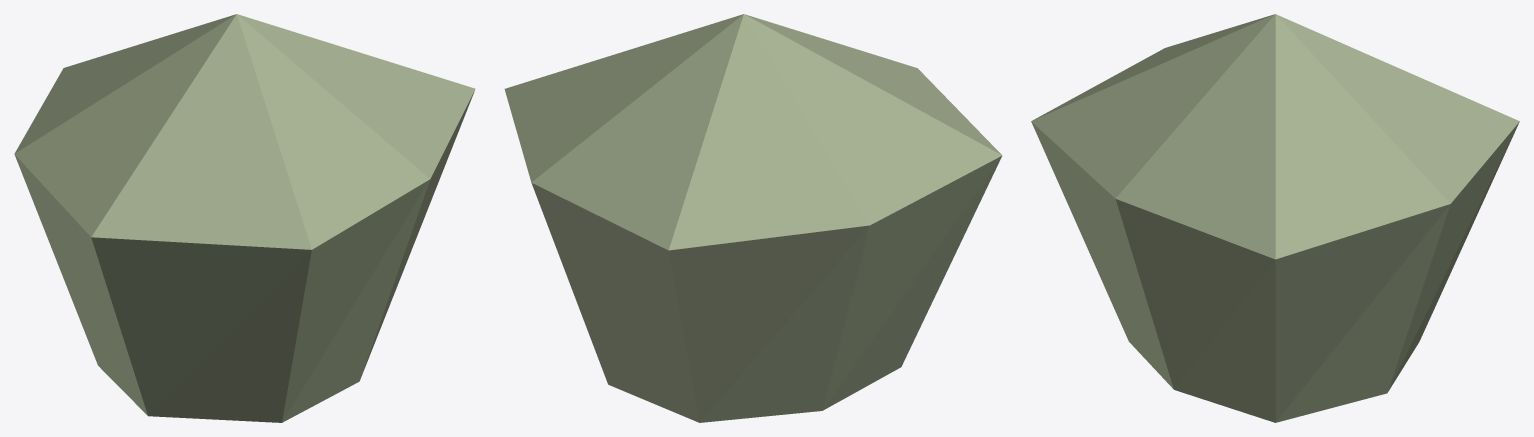
The model's file is olivo_0_L2.glb.
3 renders of one model, left to right at view 1: azimuth 30°, elevation 25°; view 2: azimuth 150°, elevation 25°; view 3: azimuth 270°, elevation 25°, orthographic.
Parts seen in each view (by area): view 1: copa; view 2: copa; view 3: copa.
Boxes of the visible parts, x1,y1,x2,y2 form: copa: (14,14,475,422); copa: (504,14,1002,422); copa: (1031,14,1519,422).
Size of the model in its own units: 3.98 by 3 by 3.89.
